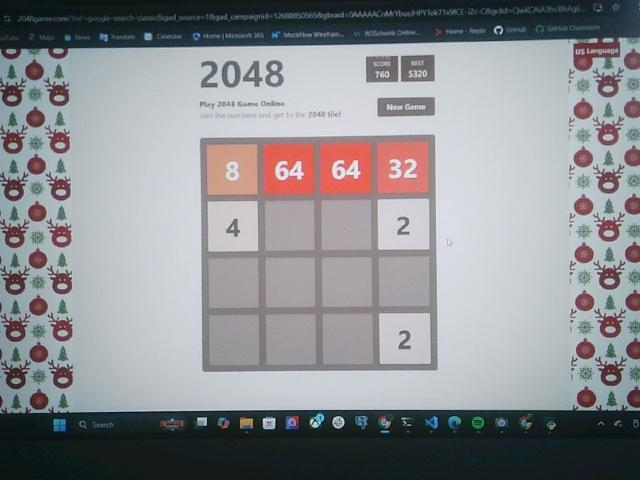board: (202, 137, 437, 370)
tile: (378, 199, 429, 251), (263, 144, 314, 195), (321, 143, 371, 195), (207, 144, 257, 195), (378, 142, 427, 194), (208, 201, 258, 251), (381, 313, 431, 363)
